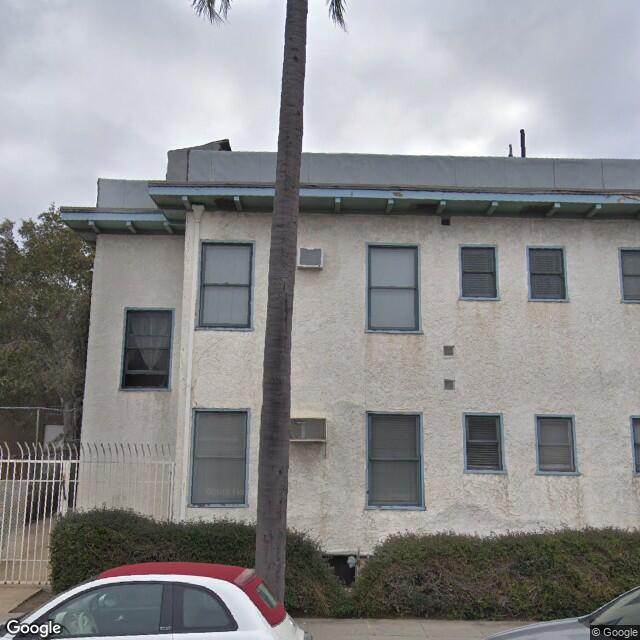window: (360, 406, 429, 517), (188, 402, 251, 509), (194, 233, 255, 339), (360, 237, 421, 340), (120, 297, 176, 399), (531, 404, 579, 481), (459, 410, 512, 477), (523, 240, 569, 304), (454, 239, 498, 305), (613, 242, 640, 305)
